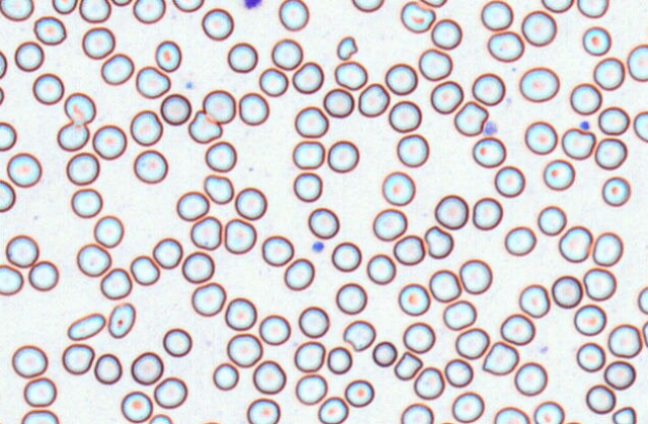PLT: (241, 0, 263, 14), (484, 121, 499, 137), (311, 240, 326, 254), (578, 119, 591, 130)
RBC: (519, 66, 559, 102), (453, 100, 488, 136), (92, 124, 127, 160), (521, 10, 556, 46), (129, 109, 163, 146), (11, 344, 48, 378), (558, 225, 592, 262), (6, 152, 41, 187), (607, 323, 642, 358), (226, 333, 262, 367), (187, 109, 222, 143), (252, 359, 286, 394), (202, 89, 236, 124), (372, 207, 407, 241), (381, 170, 415, 205), (434, 194, 468, 229), (133, 149, 168, 183), (191, 282, 226, 316), (223, 218, 256, 254), (459, 258, 492, 294), (487, 30, 524, 62), (400, 0, 435, 33), (514, 361, 547, 396), (135, 65, 170, 98), (189, 215, 222, 250), (76, 243, 111, 276), (100, 52, 134, 85), (294, 105, 328, 138), (66, 151, 99, 185), (418, 48, 452, 81), (430, 80, 463, 114), (471, 72, 505, 105), (81, 26, 115, 59), (234, 186, 267, 220), (130, 351, 163, 385), (396, 133, 429, 167), (5, 234, 39, 267), (524, 120, 557, 154), (583, 267, 616, 301), (454, 327, 489, 359), (500, 313, 535, 345), (518, 283, 550, 318), (428, 269, 461, 302), (201, 7, 234, 40), (384, 62, 417, 95), (594, 137, 627, 170), (569, 82, 602, 115), (153, 376, 187, 408), (561, 127, 595, 159), (593, 56, 625, 90), (358, 82, 389, 117), (592, 231, 623, 266), (67, 312, 105, 340), (402, 321, 435, 353), (181, 251, 214, 283), (397, 283, 430, 315), (292, 61, 324, 94), (327, 139, 359, 172), (224, 297, 256, 330), (573, 303, 606, 335), (388, 100, 421, 132), (261, 234, 294, 266), (61, 343, 94, 375), (442, 299, 476, 330), (472, 136, 506, 167), (93, 214, 124, 248), (293, 340, 325, 372), (120, 390, 152, 422), (430, 18, 462, 50), (271, 38, 303, 70), (32, 72, 64, 104), (204, 140, 236, 172), (335, 282, 367, 314), (100, 267, 132, 299), (307, 207, 339, 239), (451, 391, 484, 422), (413, 366, 444, 399), (283, 257, 314, 290), (542, 159, 575, 190), (298, 305, 329, 338), (176, 190, 209, 221), (23, 376, 56, 407), (551, 275, 582, 308), (238, 92, 269, 125), (472, 196, 502, 230), (107, 302, 135, 338), (57, 120, 89, 151), (64, 92, 95, 124), (295, 373, 327, 404), (160, 93, 191, 125), (494, 165, 525, 197), (393, 234, 425, 265), (258, 314, 290, 345), (70, 187, 102, 218), (334, 60, 367, 90), (33, 15, 66, 45), (480, 0, 513, 30), (603, 360, 636, 390), (203, 173, 234, 204), (278, 0, 309, 31), (323, 87, 354, 118), (152, 237, 182, 269), (227, 41, 257, 73), (504, 225, 536, 255), (424, 225, 453, 258), (292, 140, 325, 169), (585, 384, 616, 414), (366, 253, 396, 284), (14, 40, 44, 71), (129, 254, 159, 285), (28, 260, 58, 291), (331, 241, 361, 272), (93, 352, 122, 384), (162, 327, 192, 357), (601, 176, 631, 206), (293, 171, 322, 202), (576, 341, 605, 372), (582, 25, 611, 56), (598, 106, 629, 135), (246, 397, 280, 423), (258, 67, 288, 96), (537, 205, 566, 235), (154, 40, 181, 72), (444, 358, 473, 387), (344, 379, 374, 407), (317, 396, 348, 423), (627, 43, 647, 81), (132, 0, 165, 23), (212, 362, 239, 390), (0, 263, 23, 295), (79, 0, 111, 23), (326, 346, 352, 374), (533, 400, 564, 423), (400, 402, 433, 423), (0, 0, 33, 21), (372, 340, 397, 367), (493, 406, 529, 423), (576, 0, 609, 18), (20, 409, 59, 423), (0, 179, 15, 212), (0, 121, 16, 151), (633, 110, 647, 142), (611, 406, 637, 423), (541, 0, 573, 13), (351, 0, 384, 12), (172, 0, 204, 12), (51, 0, 77, 14), (637, 285, 647, 314), (148, 413, 172, 423), (0, 49, 7, 78), (420, 0, 447, 7), (642, 320, 648, 347), (110, 0, 132, 6), (199, 420, 222, 424), (562, 420, 584, 424), (0, 85, 4, 105)
Schistocyte: (343, 319, 377, 355), (483, 341, 517, 375), (396, 350, 422, 380), (336, 34, 360, 60)
